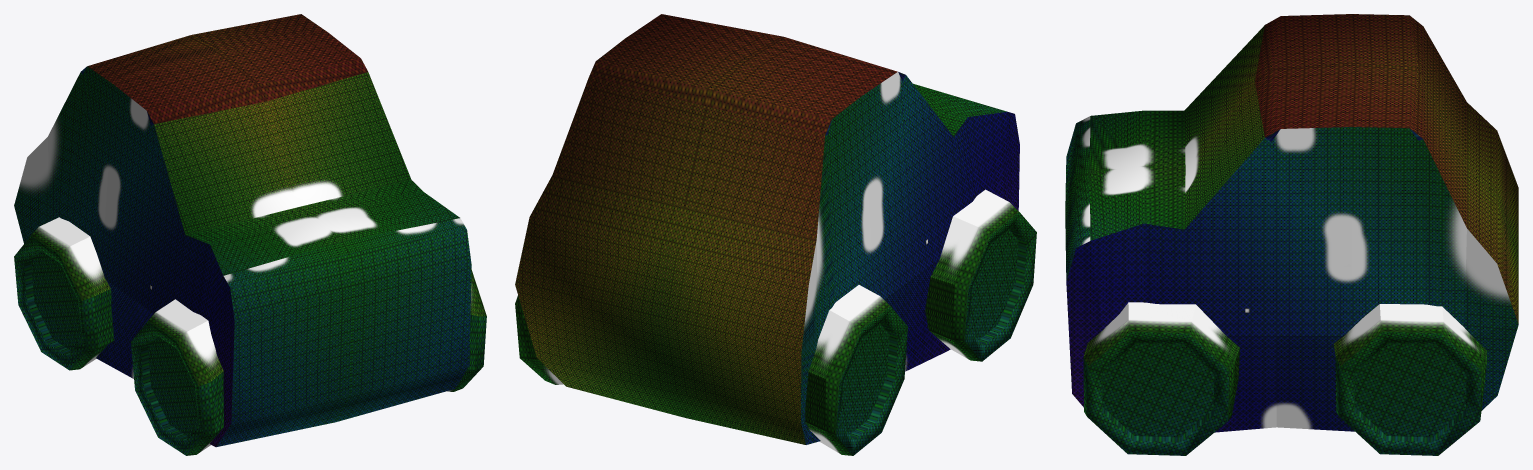
The model's file is miniAuto.fbx.
The picture shows the model from 3 angles, left to right: view 1: azimuth 30°, elevation 25°; view 2: azimuth 150°, elevation 25°; view 3: azimuth 270°, elevation 25°; orthographic projection. The views are drawn at different scales.
Parts seen in each view (by area): view 1: miniCar; view 2: miniCar; view 3: miniCar.
Part boxes in pixels (bbox=[...]): miniCar: bbox=[14, 14, 486, 455]; miniCar: bbox=[515, 14, 1036, 455]; miniCar: bbox=[1065, 14, 1518, 455].
Bounding box in the file's own units: 1.59 × 1.94 × 1.51.
